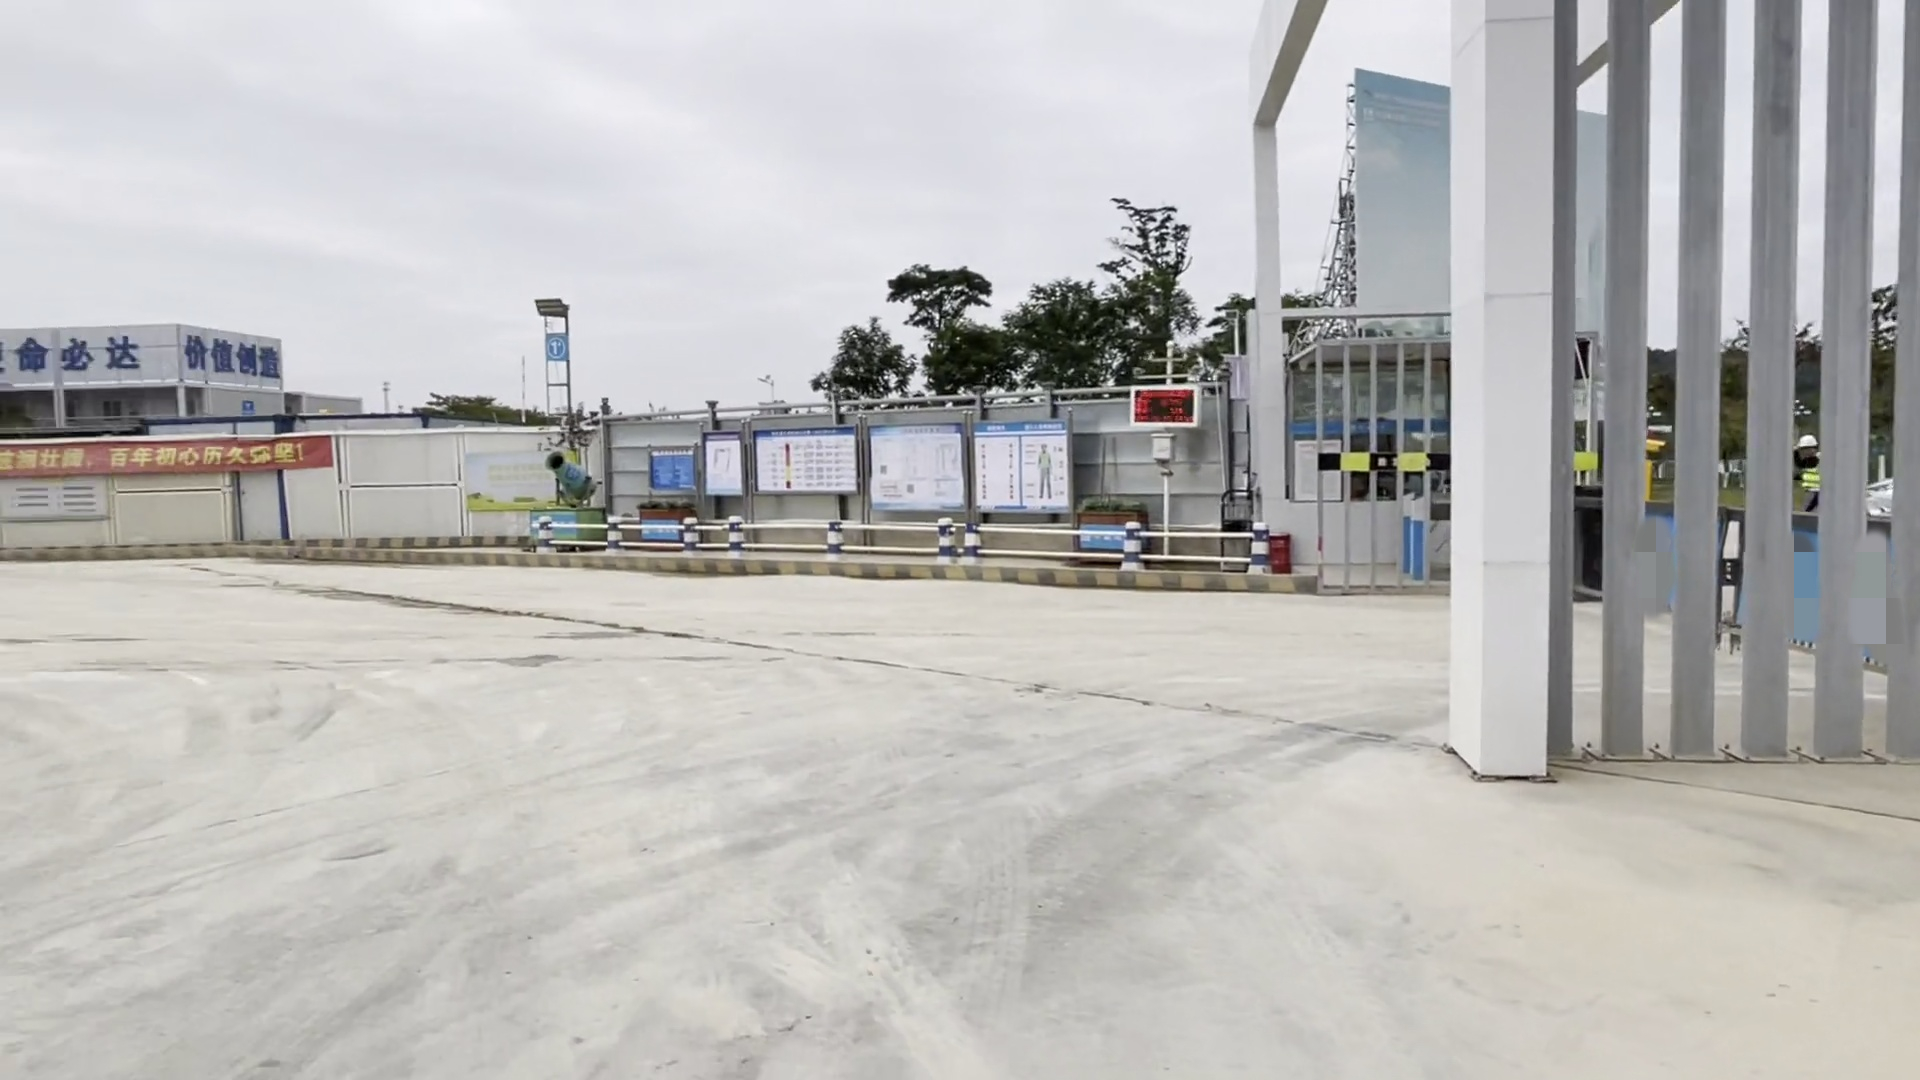slogan: (1, 436, 332, 479)
